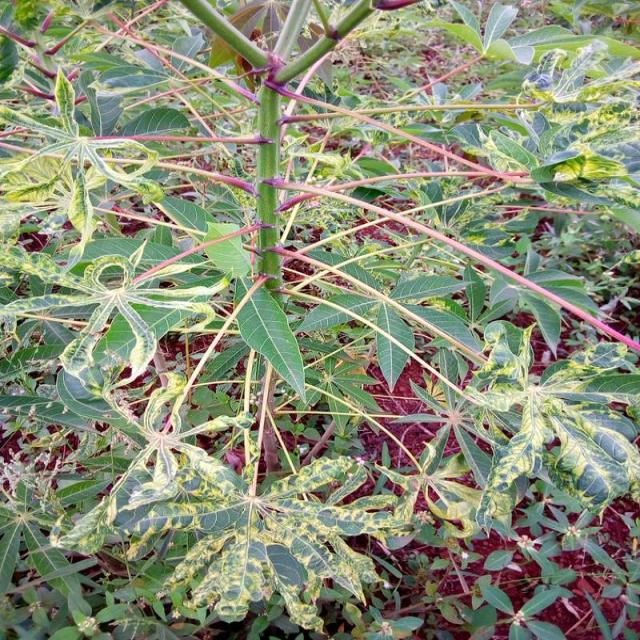cassava leaf: (0, 1, 638, 637), (233, 273, 306, 406)
